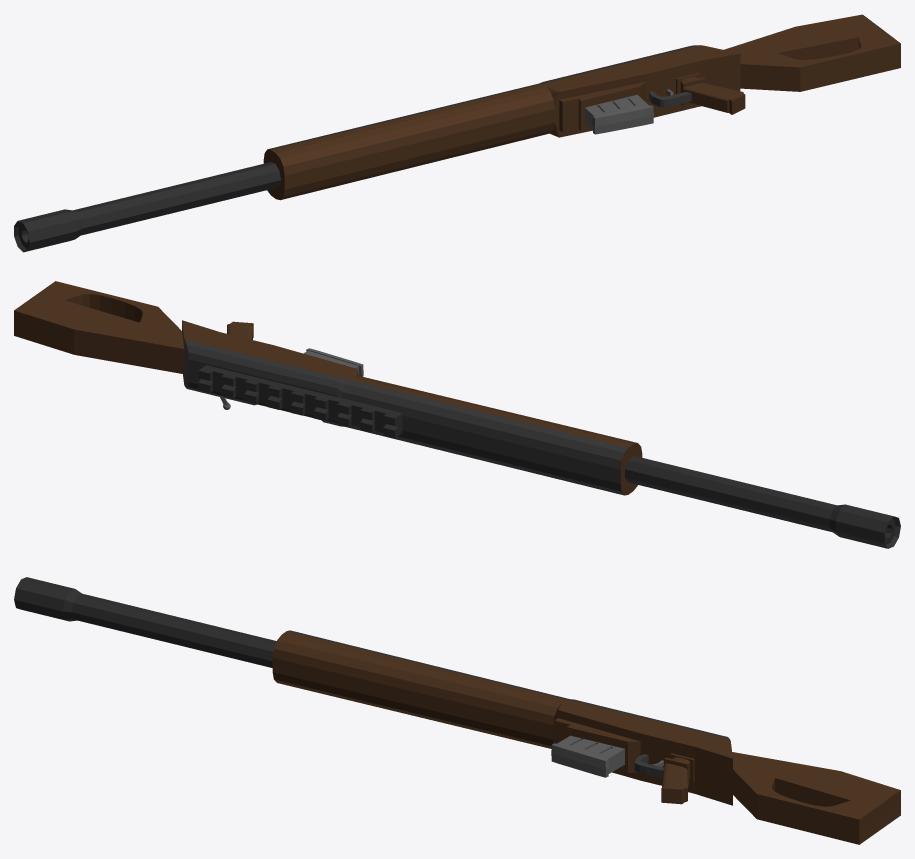
File: Hunting_Rifle.fbx
3 renders of one model, top to bottom at view 1: azimuth 30°, elevation 25°; view 2: azimuth 150°, elevation 25°; view 3: azimuth 330°, elevation 25°, orthographic. The views are drawn at different scales.
Parts seen in each view (by area): view 1: Fore-end, Barrel, Magazine; view 2: Fore-end, Barrel, Bumpy_Part; view 3: Fore-end, Barrel, Magazine.
Part boxes in pixels (<box>): Fore-end: <box>263,14,900,200</box>; Barrel: <box>14,162,280,252</box>; Magazine: <box>585,94,653,134</box>; Fore-end: <box>14,281,642,495</box>; Barrel: <box>625,455,900,548</box>; Bumpy_Part: <box>198,365,402,437</box>; Fore-end: <box>272,630,900,844</box>; Barrel: <box>14,577,276,667</box>; Magazine: <box>551,735,624,777</box>.
Bounding box in the file's own units: 1349 × 88.25 × 174.
